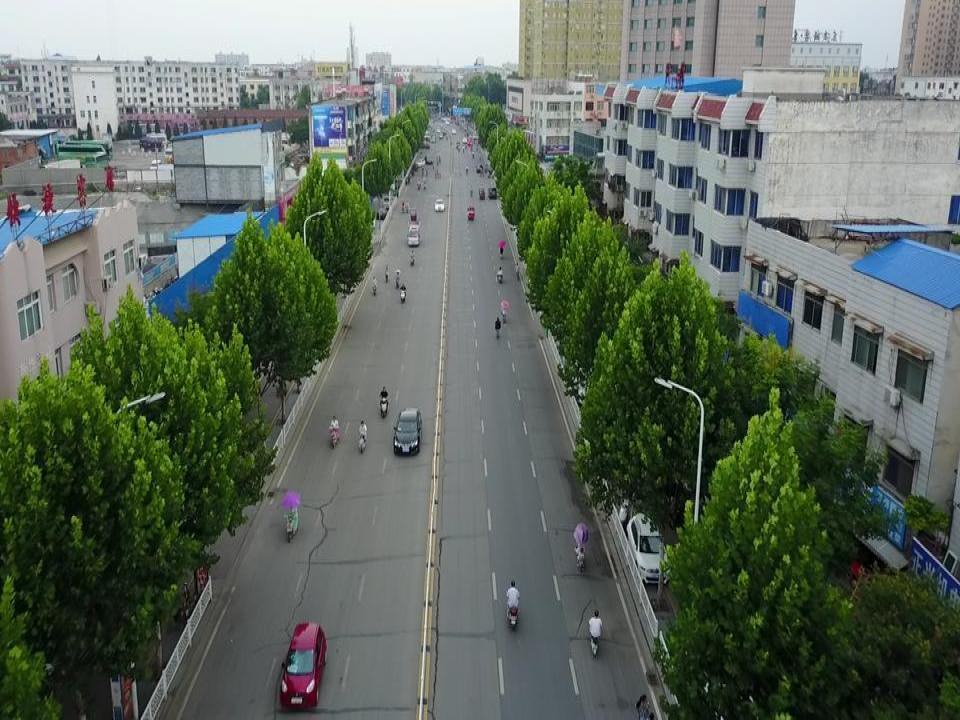bus: (139, 133, 168, 152)
car: (626, 515, 672, 585), (394, 407, 422, 456), (436, 197, 446, 214)
van: (280, 622, 326, 710)
